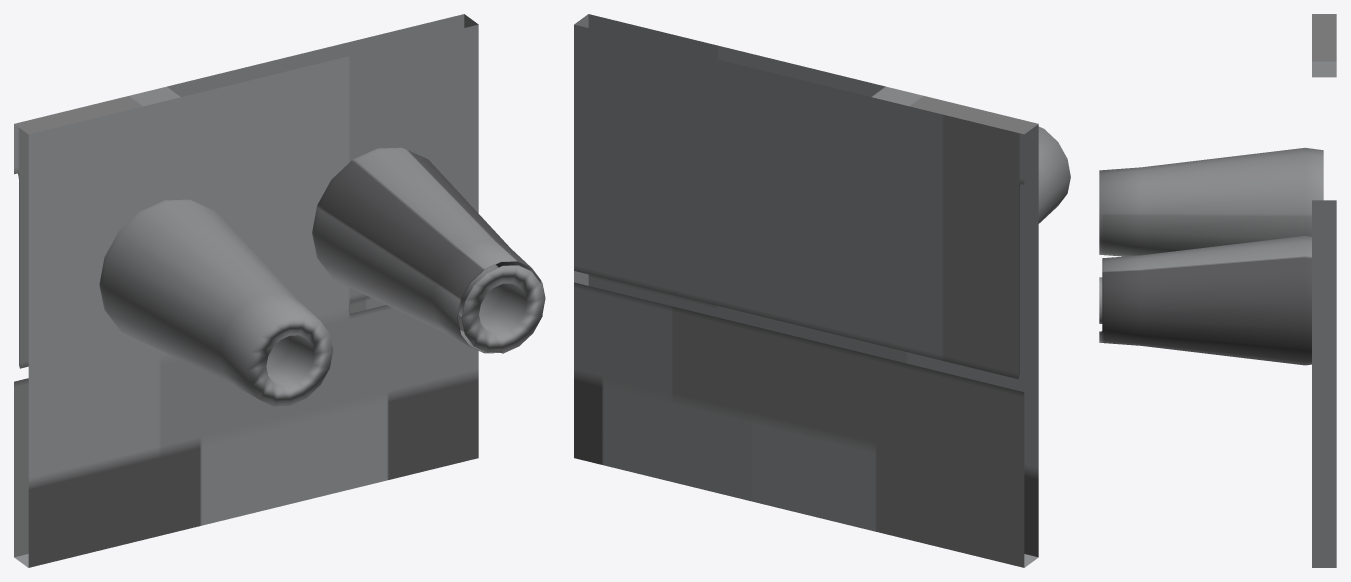
3 renders of one model, left to right at view 1: azimuth 30°, elevation 25°; view 2: azimuth 150°, elevation 25°; view 3: azimuth 270°, elevation 25°, orthographic. The views are drawn at different scales.
Size of the model in its own units: 0.72 by 0.6624 by 0.387.
